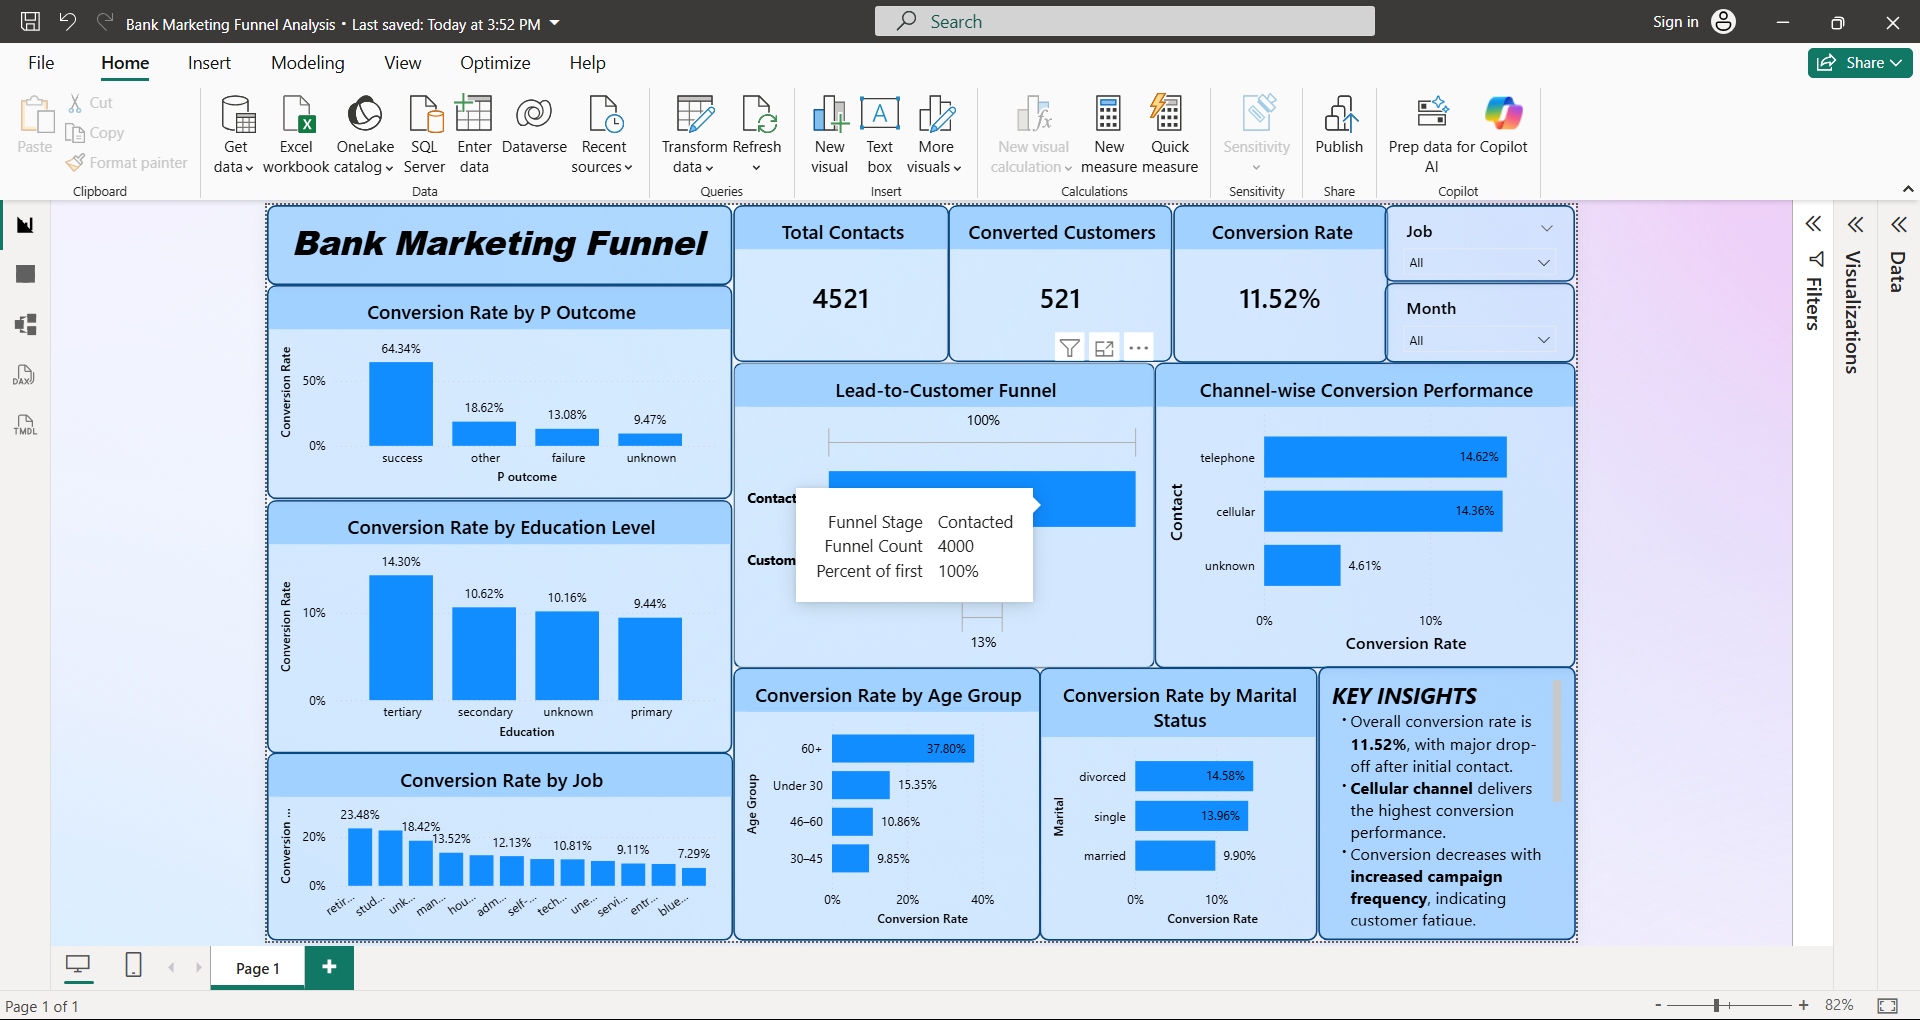

The page's visual inventory and layout, read from the dashboard file:
{"tool":"powerbi","page":{"name":"Page 1","canvas":[1280,720],"ordinal":0},"visuals":[{"type":"card","title":"Total Contacts","fields":{"Values":["Cleaned_Bank_data.Total Contacts"]},"box":[455.6,0,211.3,153.7],"z":0},{"type":"card","title":"Converted Customers","fields":{"Values":["Cleaned_Bank_data.Total Customers"]},"box":[666.9,0,219.6,153.7],"z":1000},{"type":"card","title":"Conversion Rate","fields":{"Values":["Cleaned_Bank_data.Conversion Rate"]},"box":[886.6,0,210.3,154.1],"z":2000},{"type":"funnel","title":"Lead-to-Customer Funnel","fields":{"Y":["Cleaned_Bank_data.Funnel Count"],"Category":["Cleaned_Bank_data.Funnel Stage"]},"box":[455.6,153.7,413,299.1],"z":3000},{"type":"clusteredBarChart","title":"Channel-wise Conversion Performance","fields":{"Category":["Cleaned_Bank_data.Contact"],"Y":["Cleaned_Bank_data.Conversion Rate"]},"box":[868.6,153.7,411.7,299.1],"z":4000},{"type":"slicer","fields":{"Values":["Cleaned_Bank_data.Month"]},"box":[1093.7,75.5,186.6,78.2],"z":5000},{"type":"slicer","fields":{"Values":["Cleaned_Bank_data.Job"]},"box":[1093.7,0,186.6,75.5],"z":6000},{"type":"clusteredBarChart","title":"Conversion Rate by Marital Status","fields":{"Category":["Cleaned_Bank_data.Marital"],"Y":["Cleaned_Bank_data.Conversion Rate"]},"box":[756.1,452.8,271.7,267.6],"z":7000},{"type":"clusteredColumnChart","title":"Conversion Rate by Education Level","fields":{"Category":["Cleaned_Bank_data.Education"],"Y":["Cleaned_Bank_data.Conversion Rate"]},"box":[0,288.2,455.6,248.4],"z":8000},{"type":"clusteredBarChart","fields":{"Category":["Cleaned_Bank_data.Age Group"],"Y":["Cleaned_Bank_data.Conversion Rate"]},"box":[455.6,452.8,300.5,267.6],"z":9000},{"type":"clusteredColumnChart","title":"Conversion Rate by P Outcome","fields":{"Y":["Cleaned_Bank_data.Conversion Rate"],"Category":["Cleaned_Bank_data.P out Come"]},"box":[0,78.2,455.6,209.9],"z":10000},{"type":"textbox","title":"Bank Marketing Funnel","box":[0,0,455.6,78.2],"z":11000},{"type":"clusteredColumnChart","fields":{"Category":["Cleaned_Bank_data.Job"],"Y":["Cleaned_Bank_data.Conversion Rate"]},"box":[0,536,456,184],"z":12000},{"type":"textbox","box":[1028.4,451.2,251.9,267.8],"z":13000}]}

Visuals, with their boxes on the page's 1280x720 design canvas (x1, y1, x2, y2). These are canvas units, not pixel positions in the 1920x1020 screenshot, which may show the page scaled, cropped or inside an application window:
"Total Contacts" card: 456 0 667 154
"Converted Customers" card: 667 0 886 154
"Conversion Rate" card: 887 0 1097 154
"Lead-to-Customer Funnel" funnel: 456 154 869 453
"Channel-wise Conversion Performance" clusteredBarChart: 869 154 1280 453
slicer - Cleaned_Bank_data.Month: 1094 76 1280 154
slicer - Cleaned_Bank_data.Job: 1094 0 1280 76
"Conversion Rate by Marital Status" clusteredBarChart: 756 453 1028 720
"Conversion Rate by Education Level" clusteredColumnChart: 0 288 456 537
clusteredBarChart - Cleaned_Bank_data.Age Group x Cleaned_Bank_data.Conversion Rate: 456 453 756 720
"Conversion Rate by P Outcome" clusteredColumnChart: 0 78 456 288
"Bank Marketing Funnel" textbox: 0 0 456 78
clusteredColumnChart - Cleaned_Bank_data.Job x Cleaned_Bank_data.Conversion Rate: 0 536 456 720
textbox: 1028 451 1280 719
